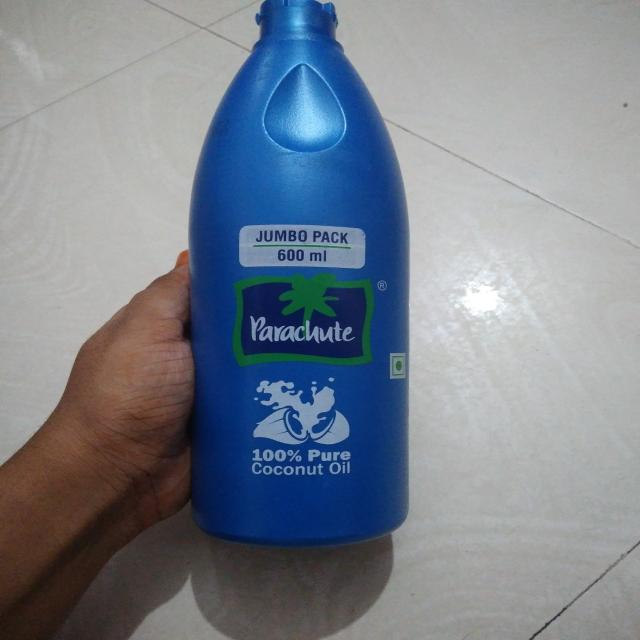parachute_oil: (185, 3, 419, 567)
